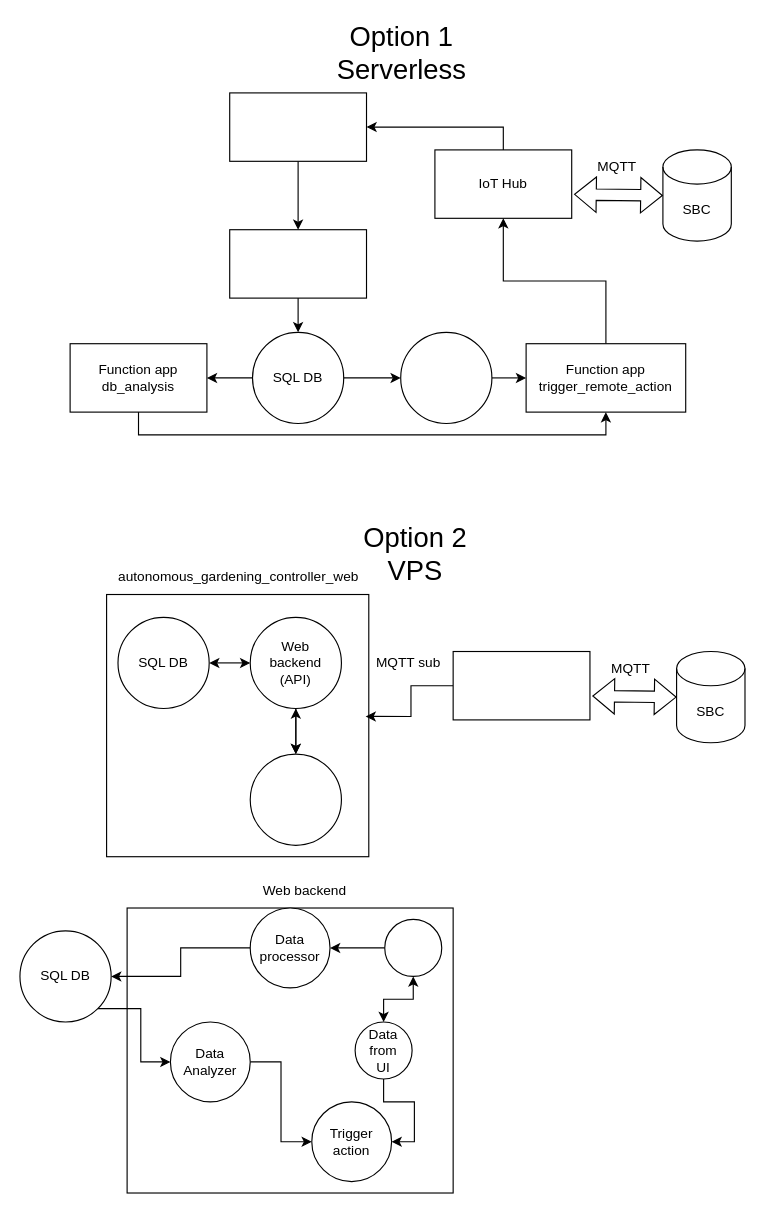
This 765x1213 diagram has some shape labels left out. The shapes that lost their labels are listed below. From the top down, each one's centre as x and y in pixels, then its label:
At pixel 298 126: "Function app data_parser".
At pixel 298 263: "Function app parsed_to_db".
At pixel 446 377: "Web control panel".
At pixel 521 685: "MQTT broker".
At pixel 295 799: "Web frontend".
At pixel 413 947: "Auth".
